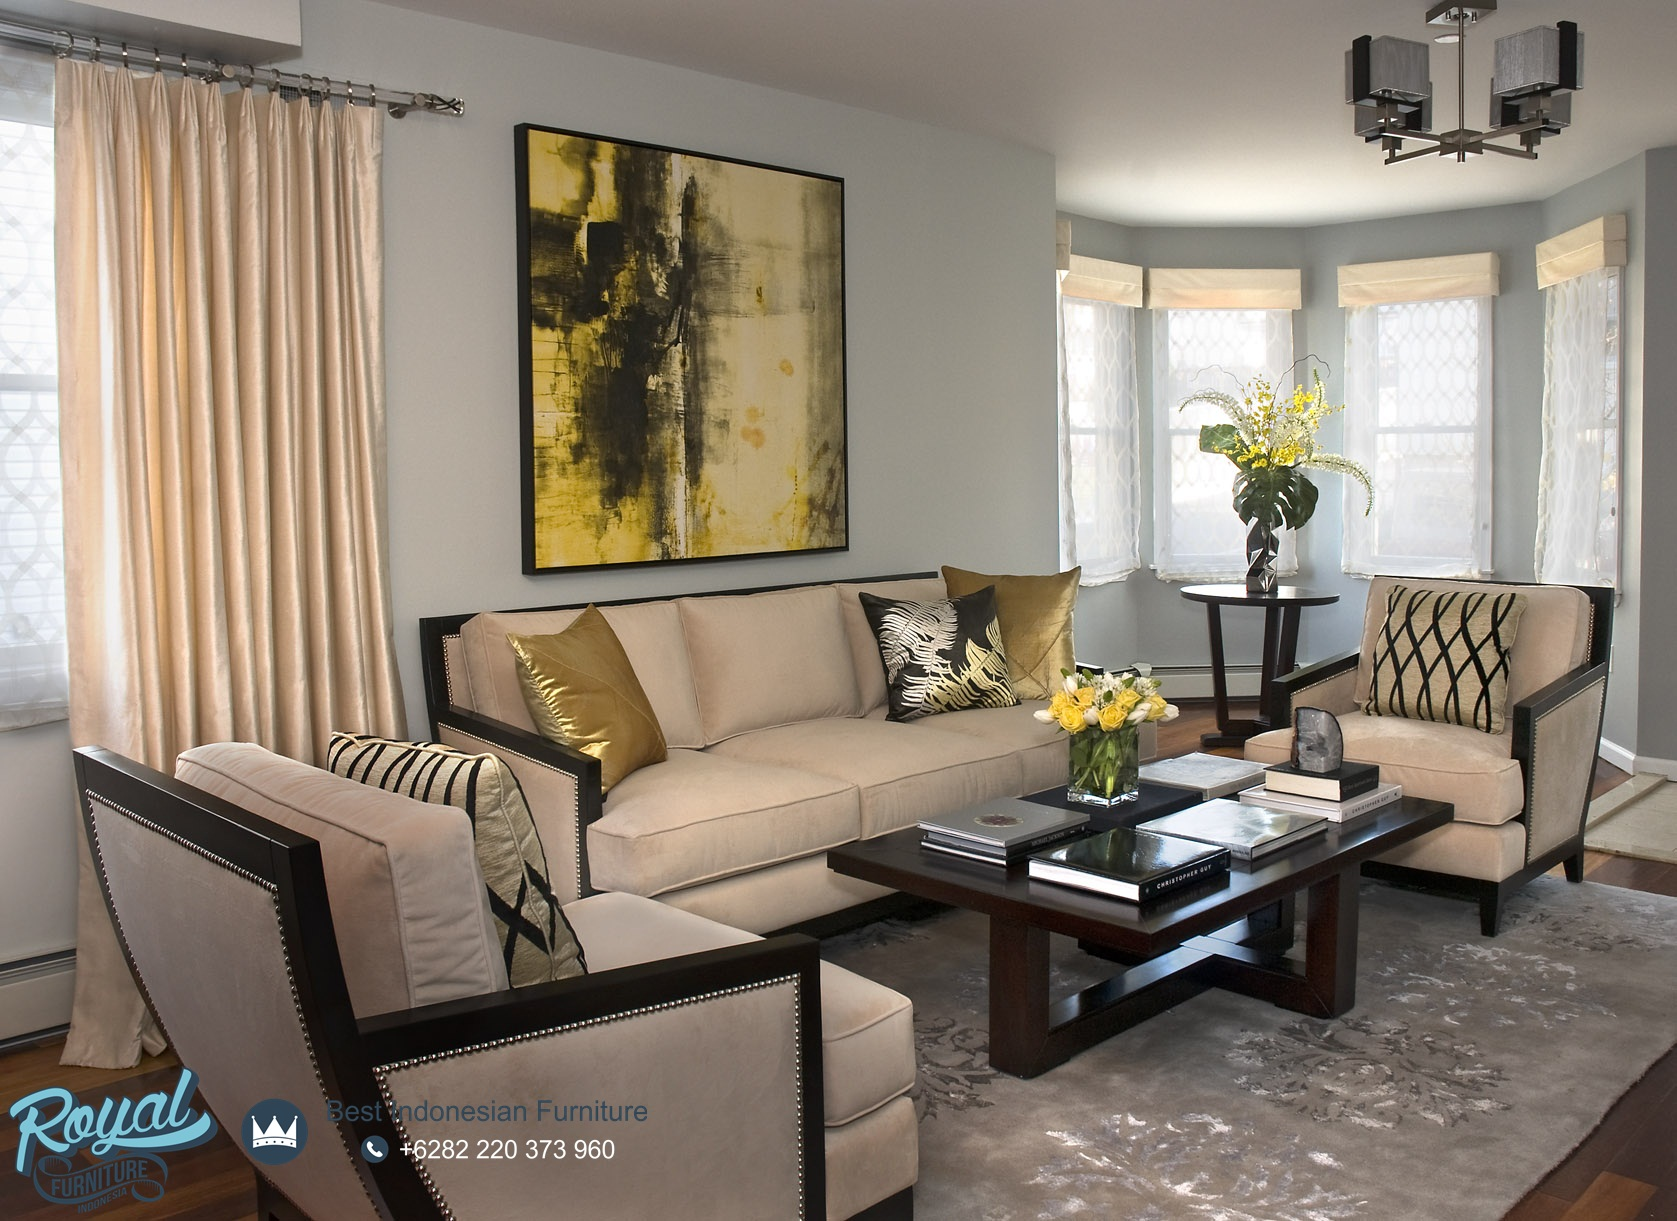Bantal: (352, 745, 592, 988), (503, 605, 674, 791), (1368, 581, 1509, 726), (861, 583, 1016, 715), (945, 551, 1079, 702)
Buku: (1029, 830, 1236, 907), (1253, 748, 1411, 815), (1141, 807, 1329, 845)
Lukisan: (504, 117, 858, 565)
Meja: (838, 748, 1454, 1031)
Sova: (72, 733, 914, 1211), (431, 565, 1139, 797), (1305, 568, 1608, 905)
Tanaman: (1208, 362, 1318, 594)
